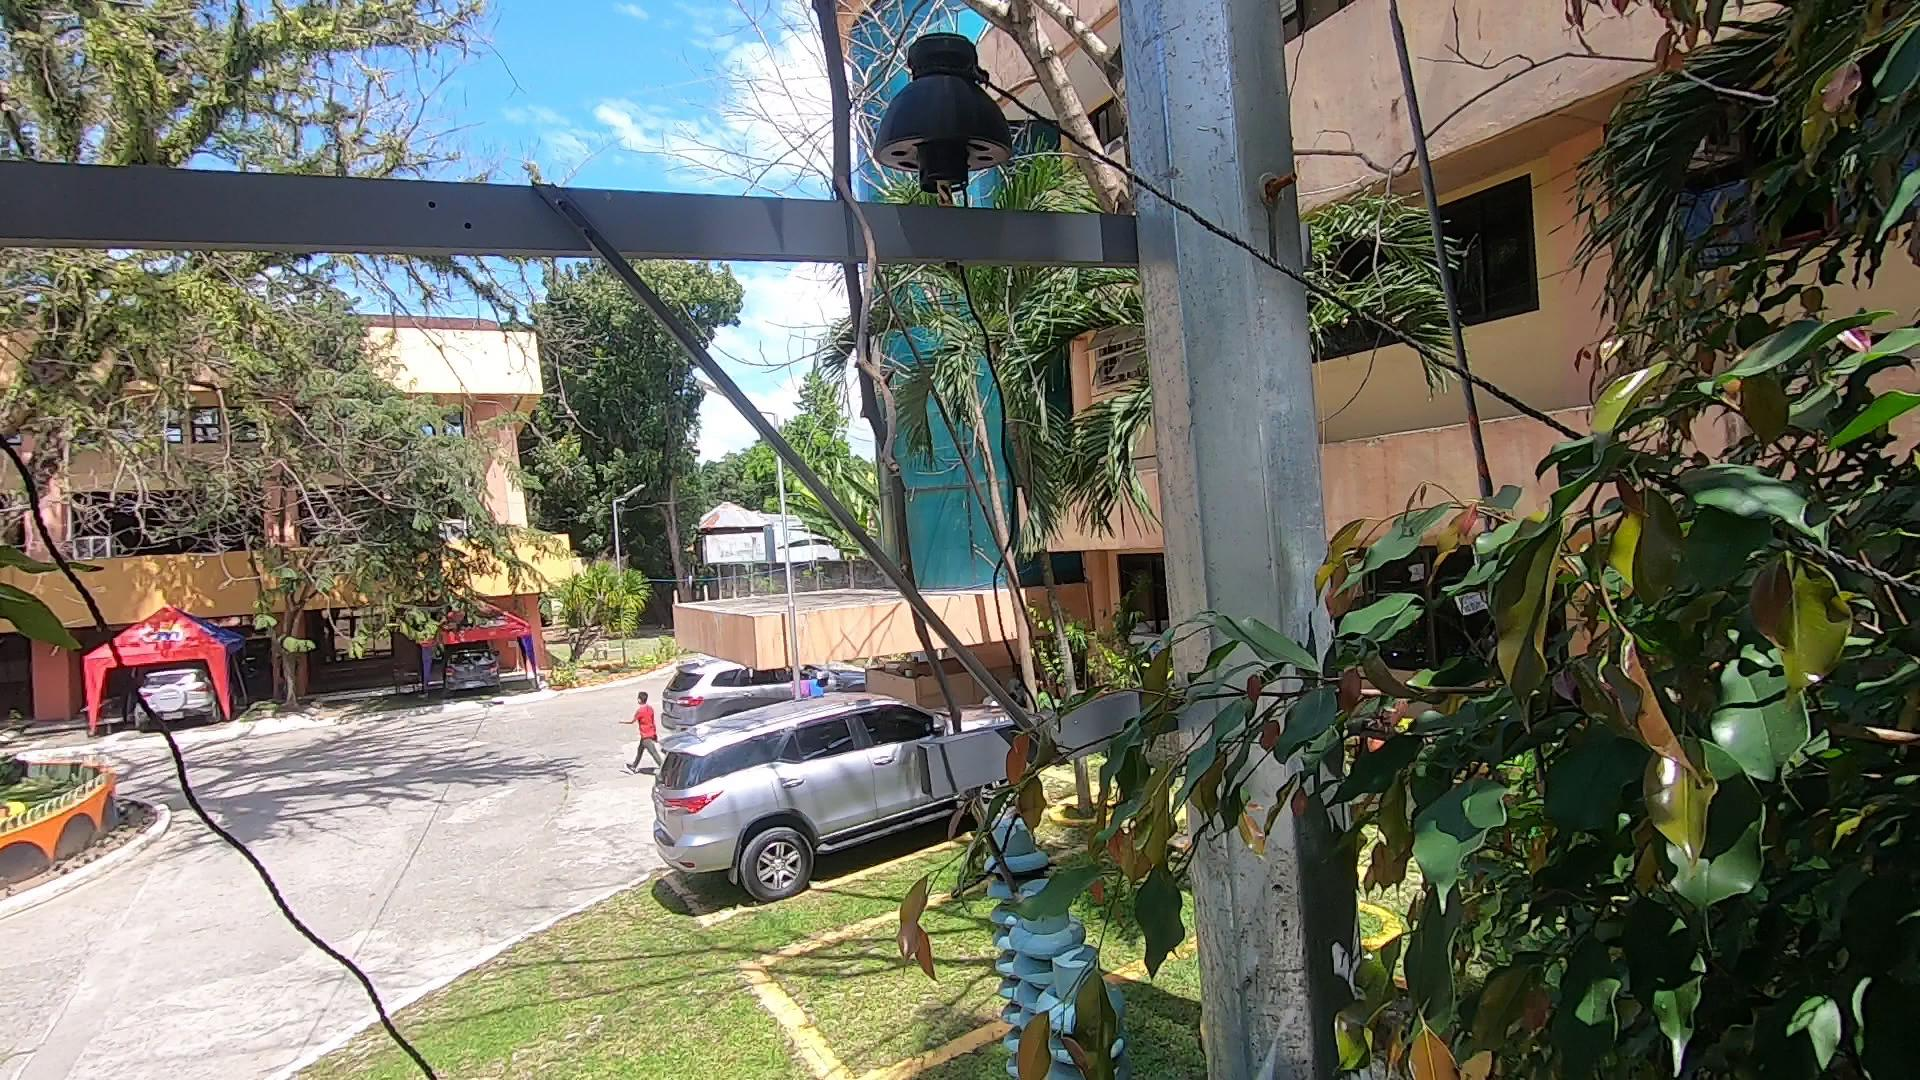branch with leaves: (936, 630, 1182, 1077)
tree branch: (744, 7, 1081, 828)
